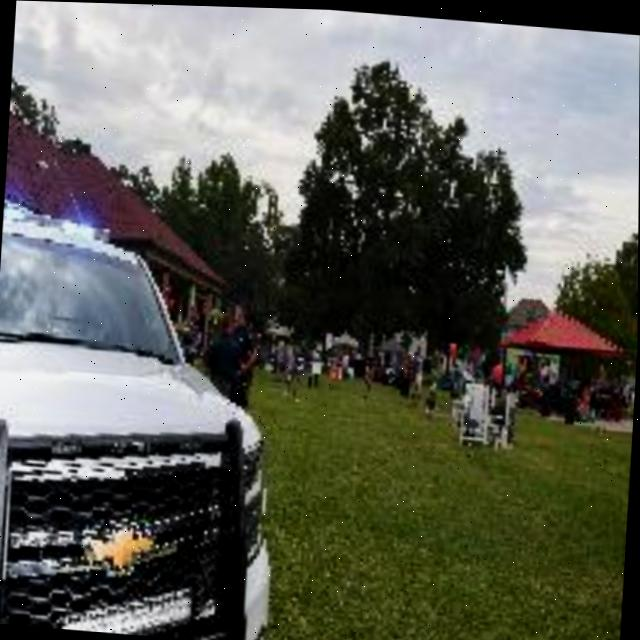emergency: (0, 185, 311, 640)
